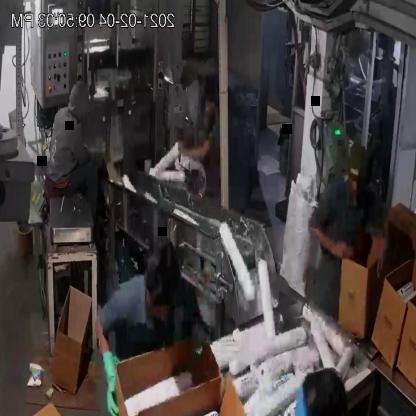glove: (95, 344, 127, 416)
no_glove: (309, 223, 361, 264), (183, 132, 222, 166)
